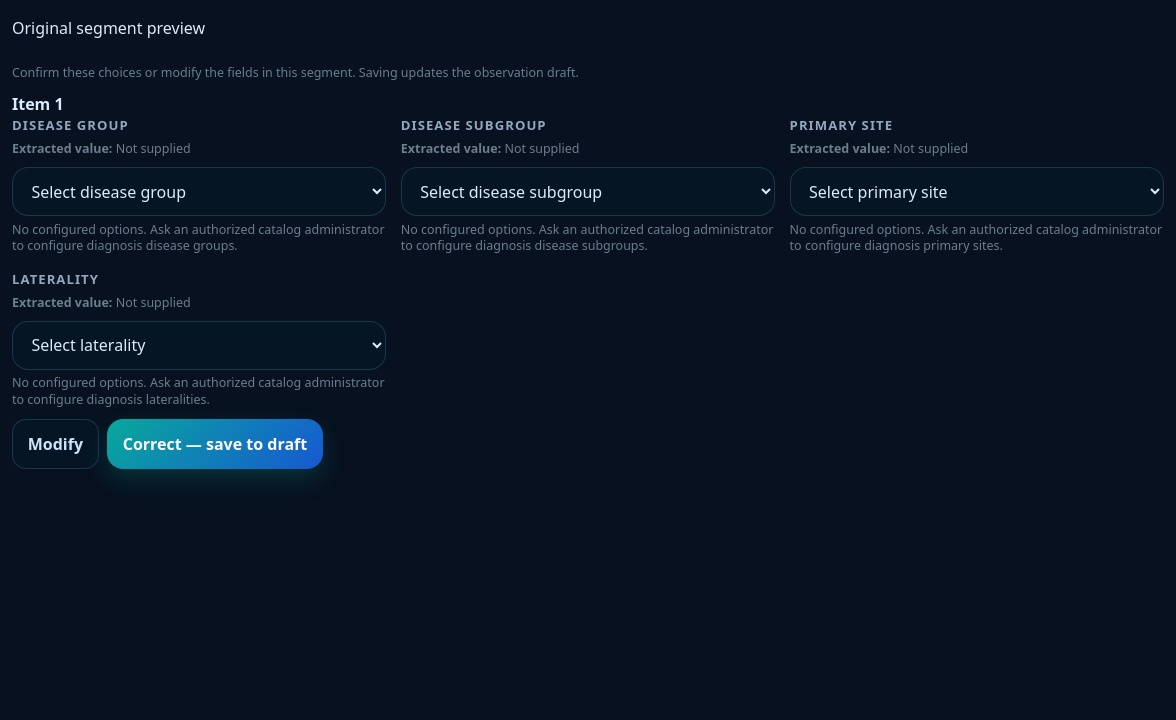
Test: Modify replaces the segment preview with local fields
Check: the button "Correct — save to draft" is shown, box [107,419,323,469]
Step 1. Click the button "Modify" → (55, 444), box [12,419,99,469]
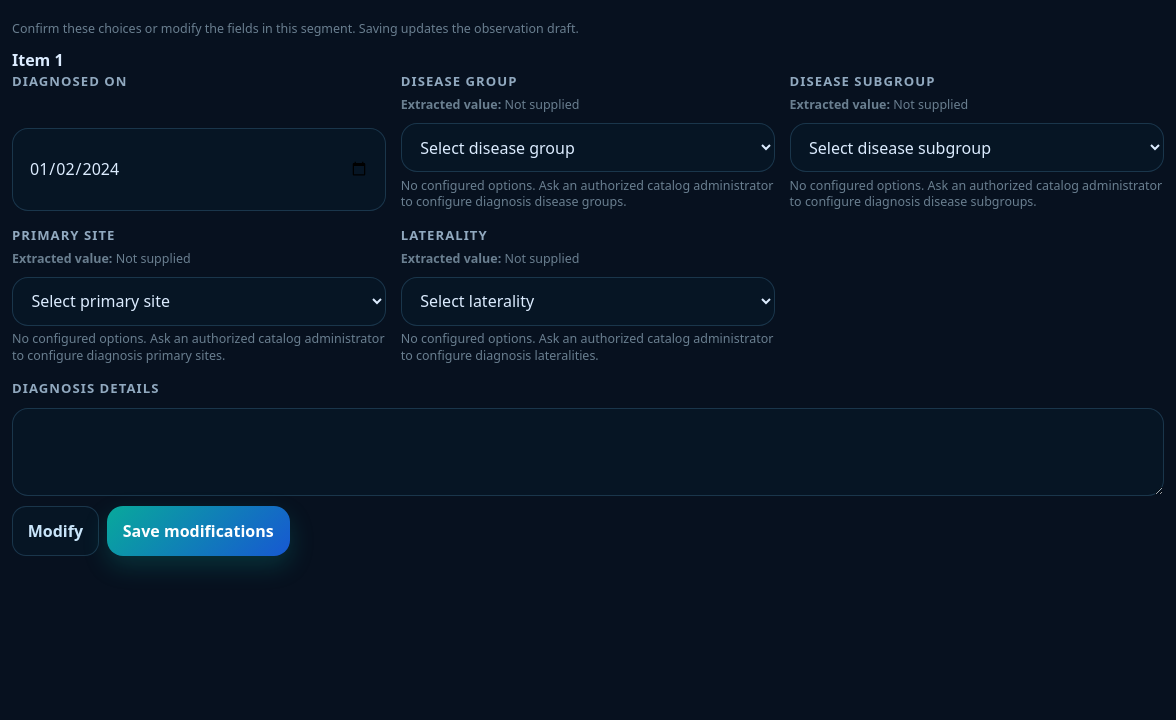
Check: the text "Original segment preview" is gone
Check: the date field labelled "Diagnosed on" is shown, box [12,128,386,211]
